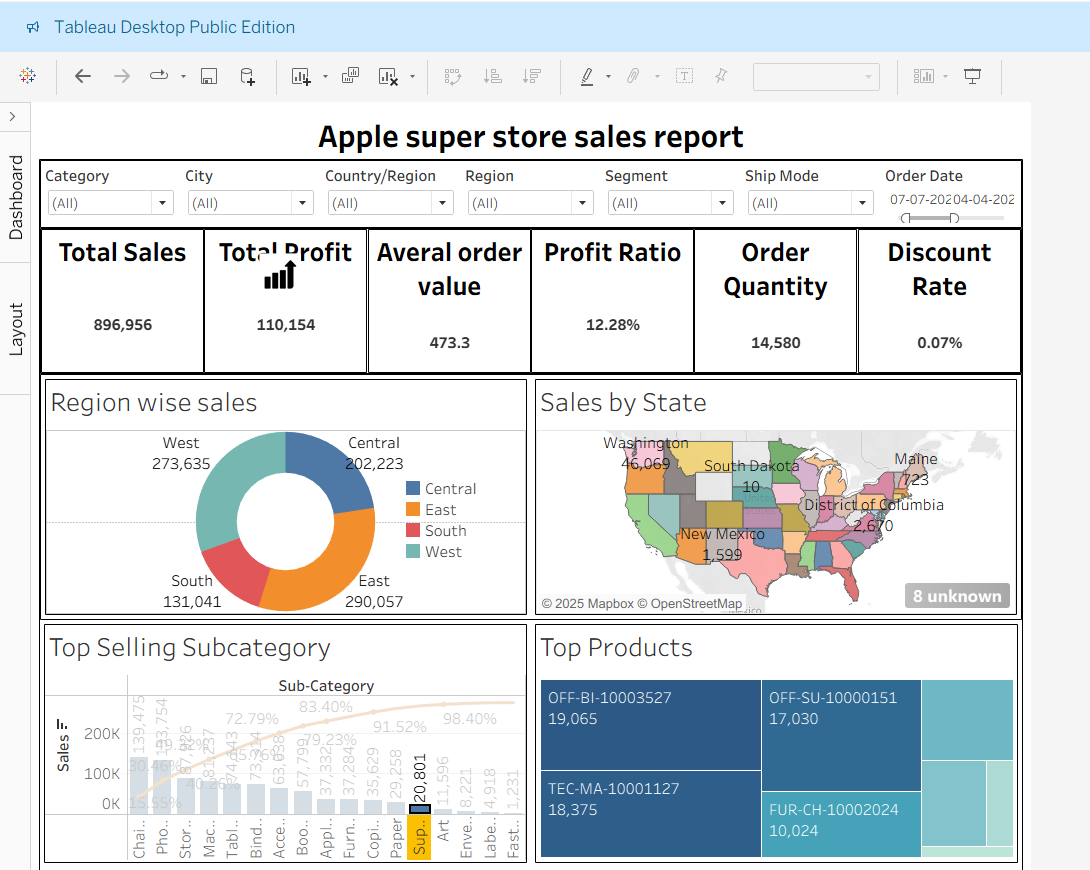

Layout of this report page (visuals, bound fields, positions):
{"tool":"tableau","page":{"name":"Apple super store sales report","canvas":[1000,1000],"units":"permille","ordinal":0},"visuals":[{"type":"title","box":[8,6.7,984,40.8]},{"type":"filter","title":"Sales Trend","param":"[federated.0h3cm5o1sjegwq122q5820u1amo6].[none:Category:nk]","box":[10,49.2,140,55]},{"type":"filter","title":"Sales Trend","param":"[federated.0h3cm5o1sjegwq122q5820u1amo6].[none:City:nk]","box":[150,49.2,140,55]},{"type":"filter","title":"Sales Trend","param":"[federated.0h3cm5o1sjegwq122q5820u1amo6].[none:Country/Region:nk]","box":[290,49.2,140,55]},{"type":"filter","title":"Sales Trend","param":"[federated.0h3cm5o1sjegwq122q5820u1amo6].[none:Region:nk]","box":[430,49.2,140,55]},{"type":"filter","title":"Sales Trend","param":"[federated.0h3cm5o1sjegwq122q5820u1amo6].[none:Segment:nk]","box":[570,49.2,140,55]},{"type":"filter","title":"Sales Trend","param":"[federated.0h3cm5o1sjegwq122q5820u1amo6].[none:Ship Mode:nk]","box":[710,49.2,140,55]},{"type":"filter","title":"Sales Trend","param":"[federated.0h3cm5o1sjegwq122q5820u1amo6].[none:Order Date:qk]","box":[850,49.2,140,55]},{"type":"worksheet","title":"Total Sales","mark":"Automatic","box":[10,105.8,163.3,120]},{"type":"worksheet","title":"Total Profit","mark":"Automatic","box":[173.3,105.8,163.3,120]},{"type":"worksheet","title":"Averal order value","mark":"Automatic","box":[336.7,105.8,163.3,120]},{"type":"worksheet","title":"Profit Ratio","mark":"Automatic","box":[500,105.8,163.3,120]},{"type":"worksheet","title":"Order Quantity","mark":"Automatic","box":[663.3,105.8,163.3,120]},{"type":"worksheet","title":"Discount Rate","mark":"Automatic","box":[826.6,105.8,163.3,120]},{"type":"image","param":"Image/images.png","box":[208,125.8,82,35]},{"type":"worksheet","title":"Region wise sales","mark":"Pie","rows":["Calculation_1407656371858739207","Calculation_1407656371858743305"],"box":[10,227.5,490,203.3]},{"type":"worksheet","title":"Sales by State","mark":"Multipolygon","box":[500,227.5,490,203.3]},{"type":"legend","title":"Region wise sales","param":"[federated.0h3cm5o1sjegwq122q5820u1amo6].[none:Region:nk]","box":[372,313.3,119,70.8]},{"type":"worksheet","title":"Top Selling Subcategory","mark":"Automatic","rows":["Sales","Sales"],"cols":["Sub-Category"],"box":[9,431.7,491,205.8]},{"type":"worksheet","title":"Top Products","mark":"Automatic","box":[500,431.7,491,205.8]},{"type":"worksheet","title":"Profit Sales by Category","mark":"Automatic","rows":["Sales","Profit"],"cols":["Category"],"box":[9,637.5,491,172.5]},{"type":"worksheet","title":"Correlation of sales / profit","mark":"Automatic","rows":["Profit"],"cols":["Sales"],"box":[500,637.5,491,172.5]},{"type":"worksheet","title":"Sales Trend","mark":"Automatic","rows":["Sales","Sales"],"cols":["Order Date"],"box":[9,810,982,182.5]}]}

Visuals, with their boxes on the dashboard's canvas, which has no fixed pixel size, in thousandths of its width and height (x1, y1, x2, y2). These are canvas units, not pixel positions in the 1090x870 screenshot, which may show the page scaled, cropped or inside an application window:
title: detection(8, 7, 992, 48)
"Sales Trend" filter: detection(10, 49, 150, 104)
"Sales Trend" filter: detection(150, 49, 290, 104)
"Sales Trend" filter: detection(290, 49, 430, 104)
"Sales Trend" filter: detection(430, 49, 570, 104)
"Sales Trend" filter: detection(570, 49, 710, 104)
"Sales Trend" filter: detection(710, 49, 850, 104)
"Sales Trend" filter: detection(850, 49, 990, 104)
"Total Sales" worksheet: detection(10, 106, 173, 226)
"Total Profit" worksheet: detection(173, 106, 337, 226)
"Averal order value" worksheet: detection(337, 106, 500, 226)
"Profit Ratio" worksheet: detection(500, 106, 663, 226)
"Order Quantity" worksheet: detection(663, 106, 827, 226)
"Discount Rate" worksheet: detection(827, 106, 990, 226)
image: detection(208, 126, 290, 161)
"Region wise sales" worksheet (Pie marks): detection(10, 228, 500, 431)
"Sales by State" worksheet (Multipolygon marks): detection(500, 228, 990, 431)
"Region wise sales" legend: detection(372, 313, 491, 384)
"Top Selling Subcategory" worksheet: detection(9, 432, 500, 638)
"Top Products" worksheet: detection(500, 432, 991, 638)
"Profit Sales by Category" worksheet: detection(9, 638, 500, 810)
"Correlation of sales / profit" worksheet: detection(500, 638, 991, 810)
"Sales Trend" worksheet: detection(9, 810, 991, 992)
